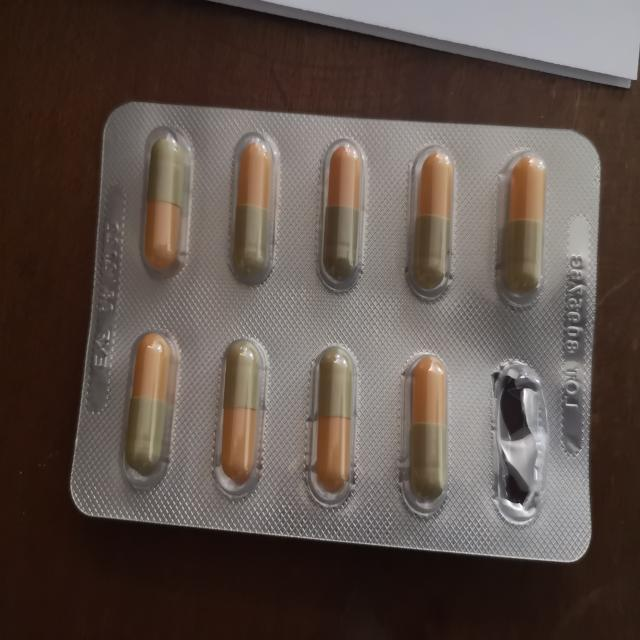Empty: (486, 351, 553, 532)
Pill: (114, 325, 186, 498), (298, 336, 367, 510), (208, 329, 274, 505), (309, 130, 377, 300), (131, 117, 200, 284), (396, 348, 460, 528), (401, 136, 466, 308), (222, 120, 284, 292), (495, 141, 557, 311)
